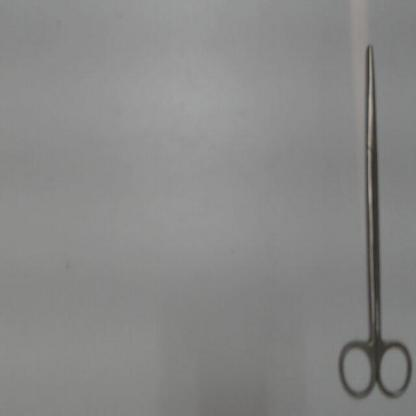9 Metzenbaum Scissors: (334, 37, 414, 404)
